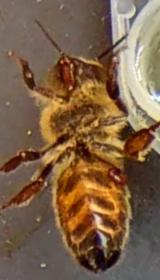varroa_mite: (98, 155, 136, 190)
